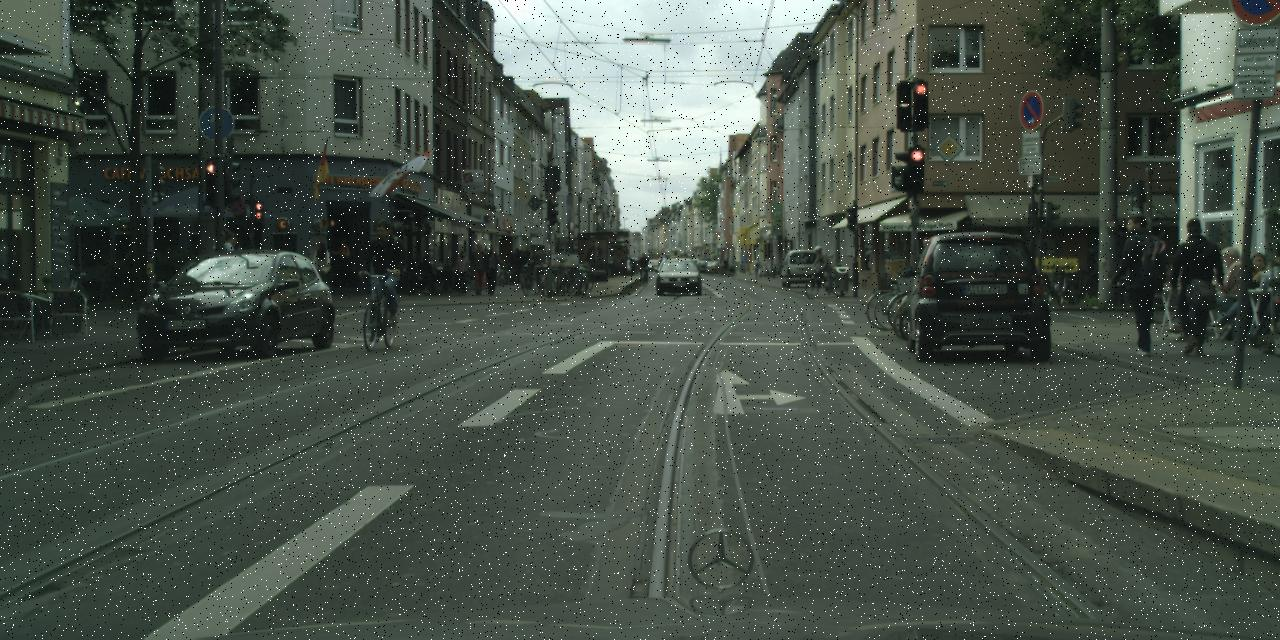ped: (1113, 215, 1169, 352), (1167, 218, 1221, 351), (360, 218, 406, 329), (206, 228, 240, 311), (214, 233, 245, 308), (918, 236, 942, 295), (309, 241, 332, 297), (468, 242, 489, 294), (334, 238, 354, 286), (482, 247, 501, 294), (453, 250, 471, 293), (812, 246, 830, 288), (516, 242, 532, 284), (532, 245, 548, 286), (509, 246, 523, 282), (637, 252, 649, 281), (751, 255, 760, 278)
